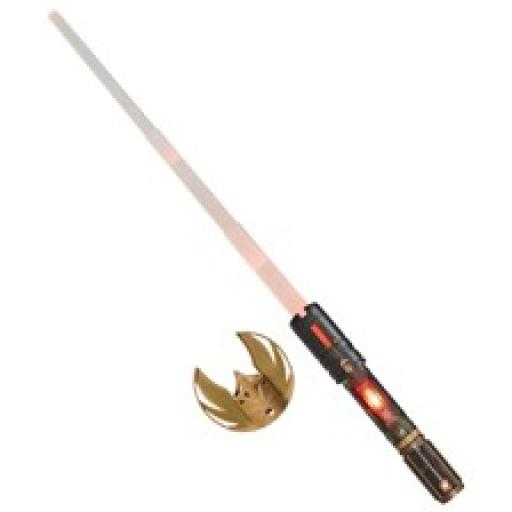lightsaber: (46, 7, 466, 503)
